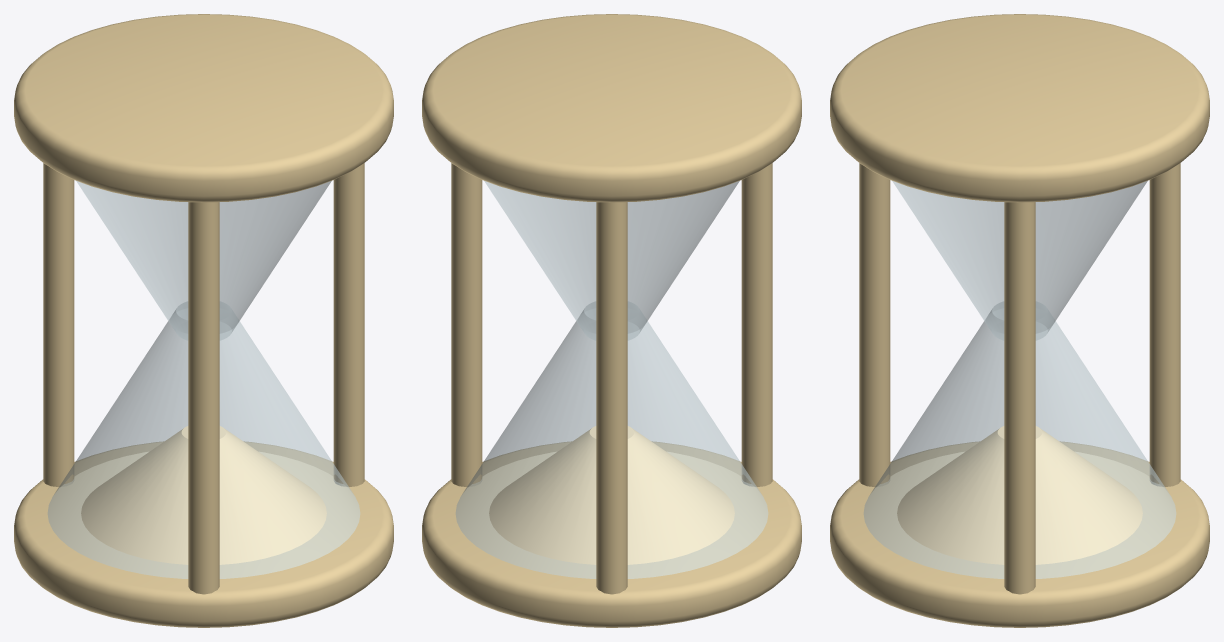
The model's file is Hourglass.fbx.
3 renders of one model, left to right at view 1: azimuth 30°, elevation 25°; view 2: azimuth 150°, elevation 25°; view 3: azimuth 270°, elevation 25°, orthographic.
Parts seen in each view (by area): view 1: TopCap, GlassBot, BotCap, Sand, GlassTop, Pillar2, Pillar0, Pillar1; view 2: TopCap, GlassBot, BotCap, Sand, GlassTop, Pillar1, Pillar0, Pillar2; view 3: TopCap, GlassBot, BotCap, Sand, GlassTop, Pillar0, Pillar1, Pillar2.
Part boxes in pixels (x1,y1,x2,y2): TopCap: (14, 14, 393, 202); GlassBot: (47, 301, 360, 578); BotCap: (14, 441, 393, 627); Sand: (81, 426, 326, 564); GlassTop: (76, 181, 331, 340); Pillar2: (188, 202, 219, 594); Pillar0: (333, 163, 364, 486); Pillar1: (43, 163, 74, 486); TopCap: (422, 14, 801, 202); GlassBot: (455, 301, 768, 578); BotCap: (422, 441, 801, 627); Sand: (489, 426, 734, 564); GlassTop: (484, 181, 739, 340); Pillar1: (596, 202, 627, 594); Pillar0: (451, 163, 482, 486); Pillar2: (741, 163, 772, 486); TopCap: (830, 14, 1209, 202); GlassBot: (863, 301, 1176, 578); BotCap: (830, 441, 1209, 627); Sand: (897, 426, 1142, 564); GlassTop: (892, 181, 1147, 340); Pillar0: (1004, 202, 1035, 594); Pillar1: (1149, 163, 1180, 486); Pillar2: (859, 163, 890, 486).
Bounding box in the file's own units: 0.34 × 0.455 × 0.34.
